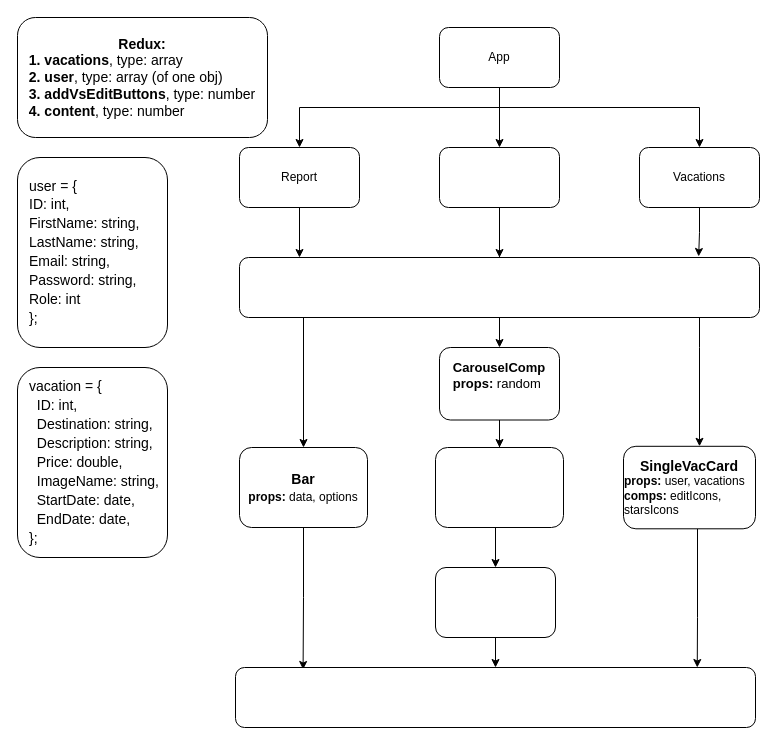
Some shapes in this 777 by 745 pixel diagram are drawn without their labels. Each missing label, with the box of its shape:
Footer: (234, 666, 756, 728)
Home: (438, 146, 560, 208)
MostPopularVacs props: vacations: (434, 566, 556, 638)
Nav props: user, content comps: Login, Register: (238, 256, 760, 318)
NextVacationComp props: vacation: (434, 446, 564, 528)
